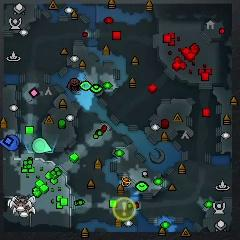Other: (113, 197, 136, 221)
p1: (0, 136, 21, 151)
p2: (32, 138, 52, 154)
